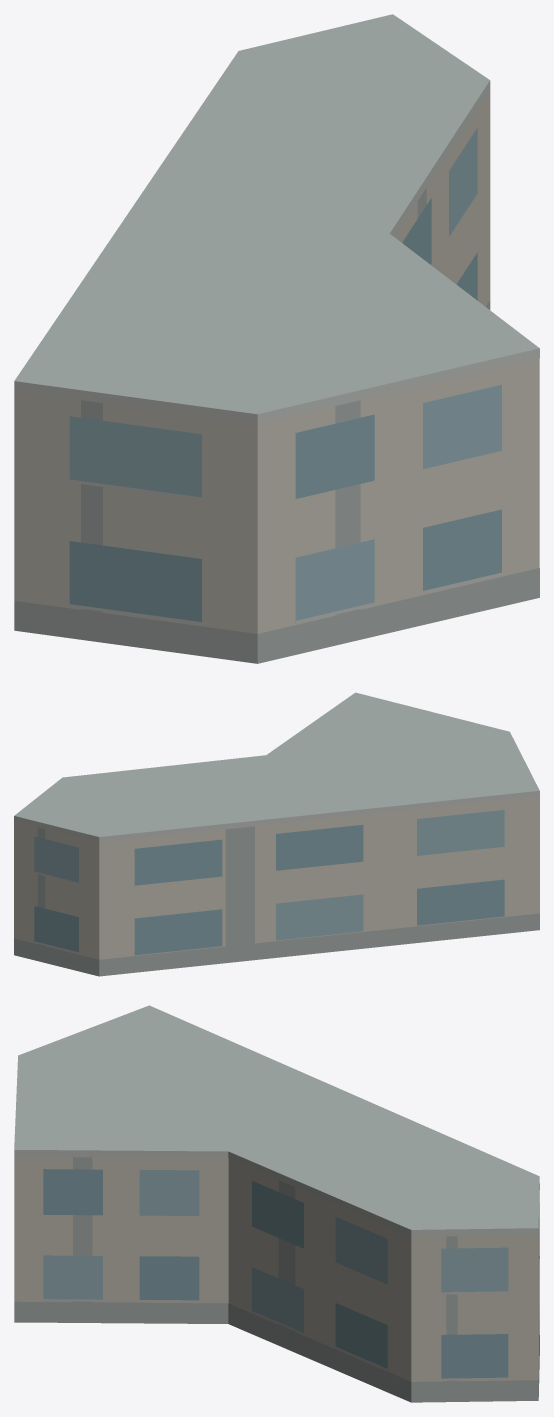
Rendered from survey-upis-32907445.glb.
The picture shows the model from 3 angles, top to bottom: view 1: azimuth 30°, elevation 25°; view 2: azimuth 150°, elevation 25°; view 3: azimuth 270°, elevation 25°; orthographic projection. The views are drawn at different scales.
Parts seen in each view (by area): view 1: survey-upis-32907445.tmp; view 2: survey-upis-32907445.tmp; view 3: survey-upis-32907445.tmp.
Part boxes in pixels (x1,y1,x2,y2): survey-upis-32907445.tmp: (14,14,539,663); survey-upis-32907445.tmp: (14,692,539,976); survey-upis-32907445.tmp: (14,1005,539,1402).
Bounding box in the file's own units: 17.03 × 6.1 × 16.85.
